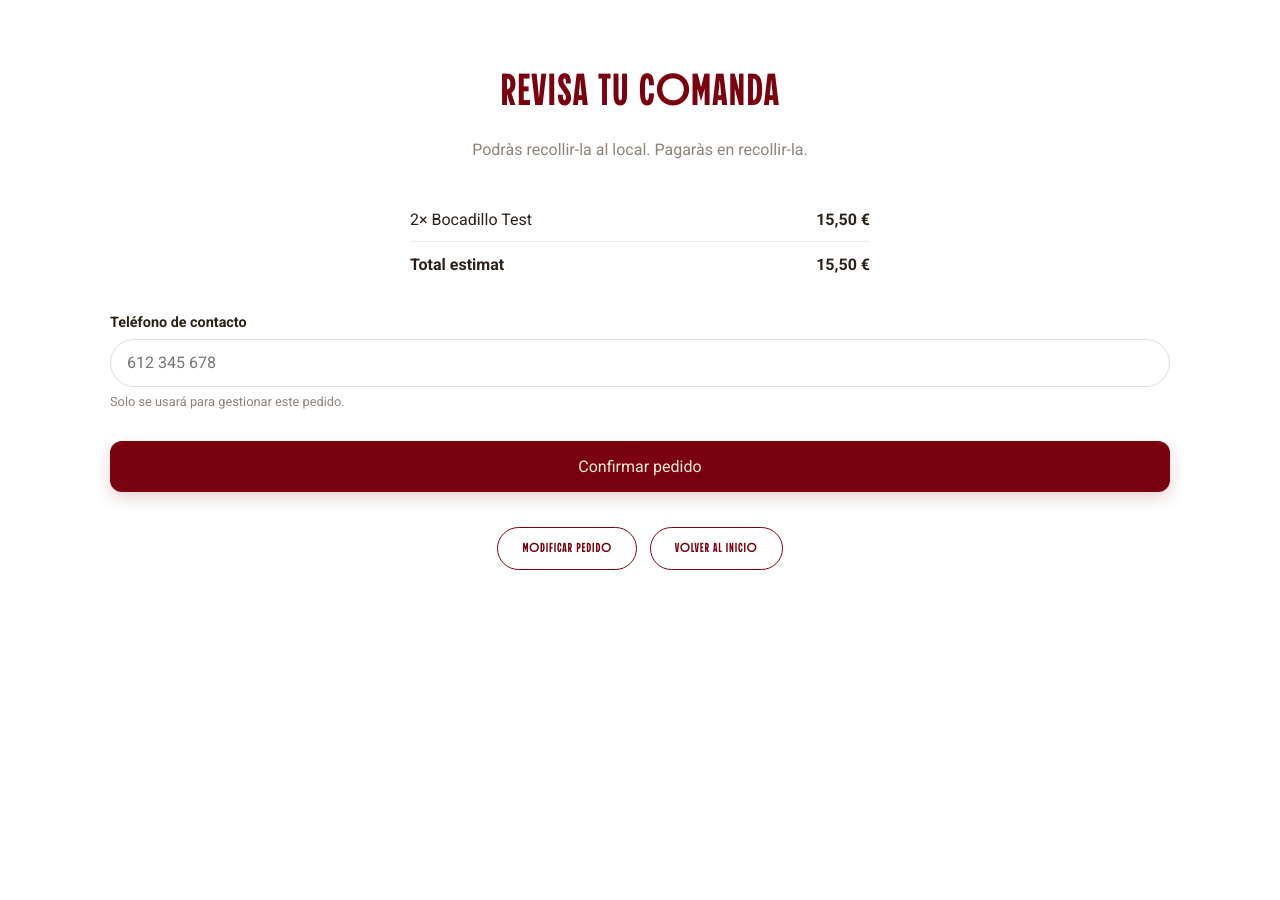
Test: OrderConfirmation page › closing the error modal hides it
The image size is (1280, 900).
Type "612345678" into the field labelled "Teléfono de contacto".
click(640, 363); type("612345678")  # box [110,339,1170,387]
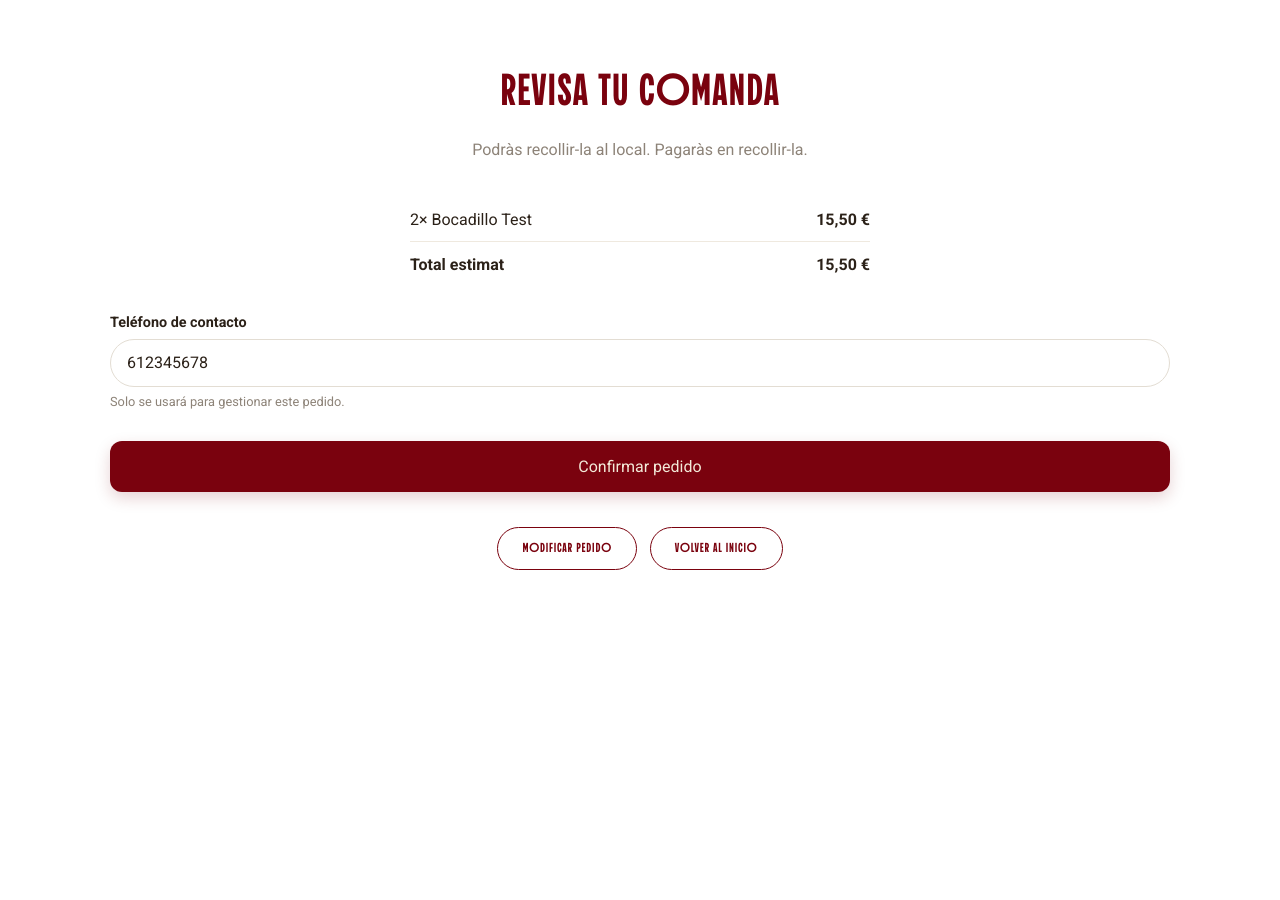
Submit the form with class "confirm-submit-form", box [110,311,1170,492]
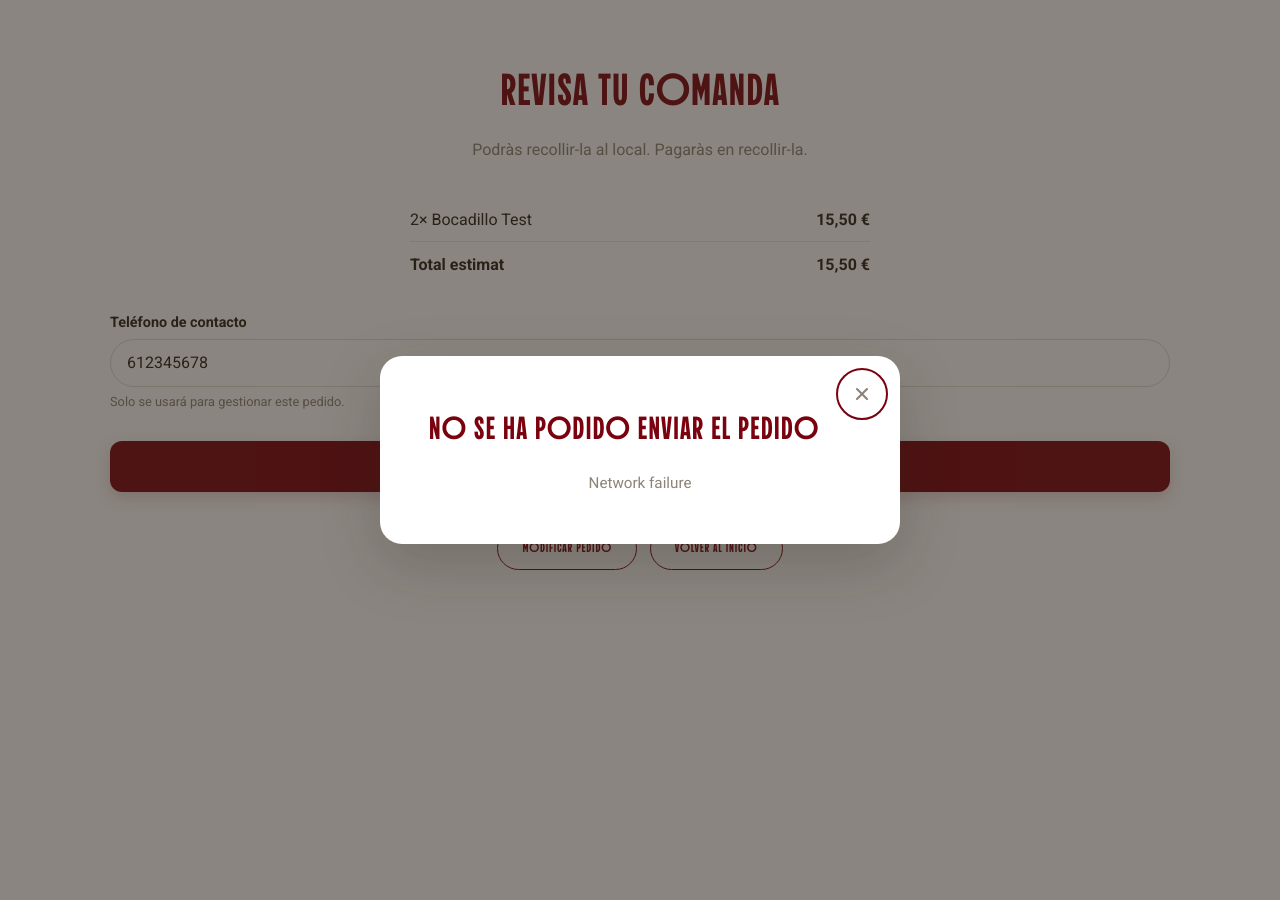
Now the heading "No se ha podido enviar el pedido" is shown, box [420,404,860,455]
Note: Close the error modal by clicking the X button (aria-hidden backdrop)
Click the button named "Cerrar".
click(862, 394)  # box [840,372,884,416]
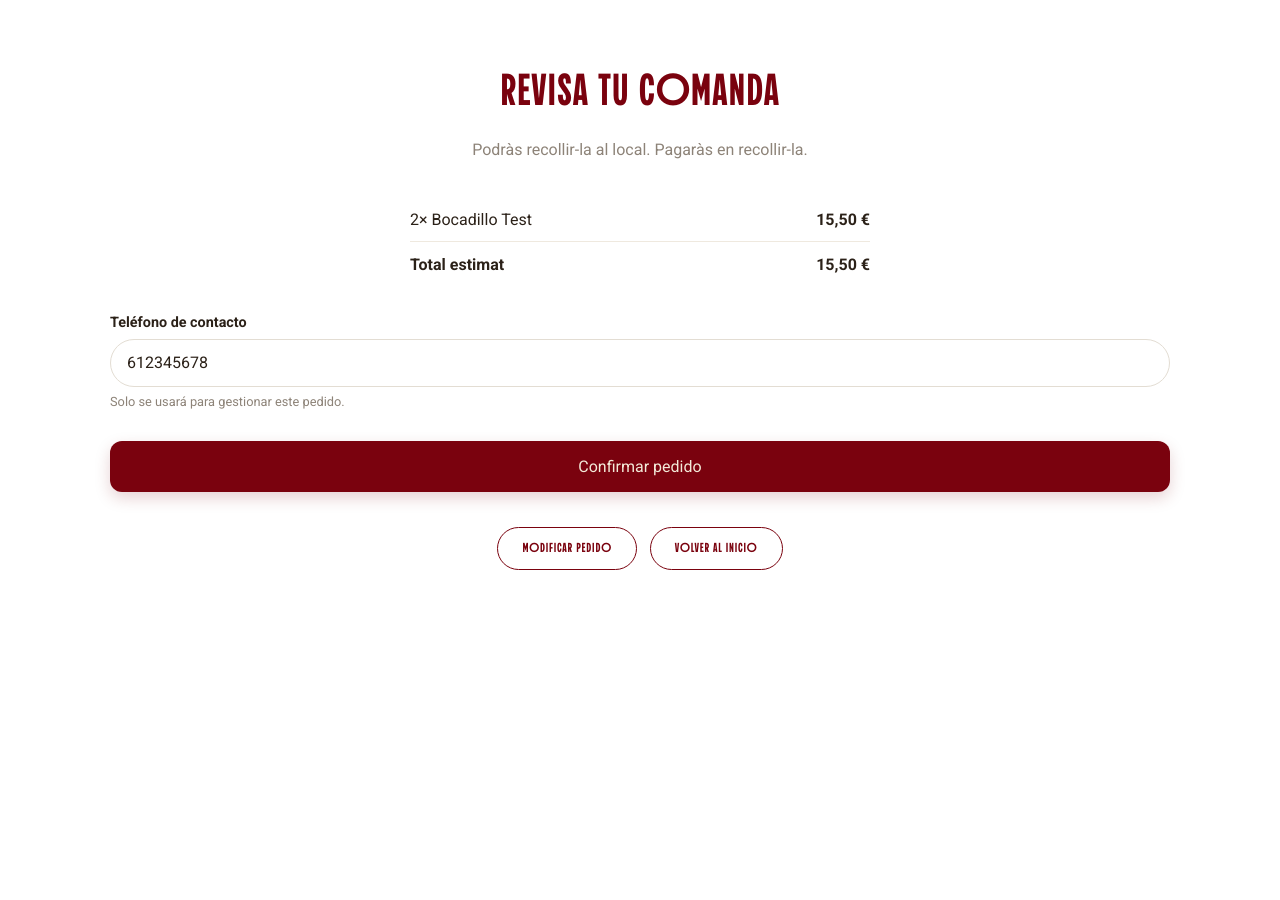
Now the heading "No se ha podido enviar el pedido" is gone
